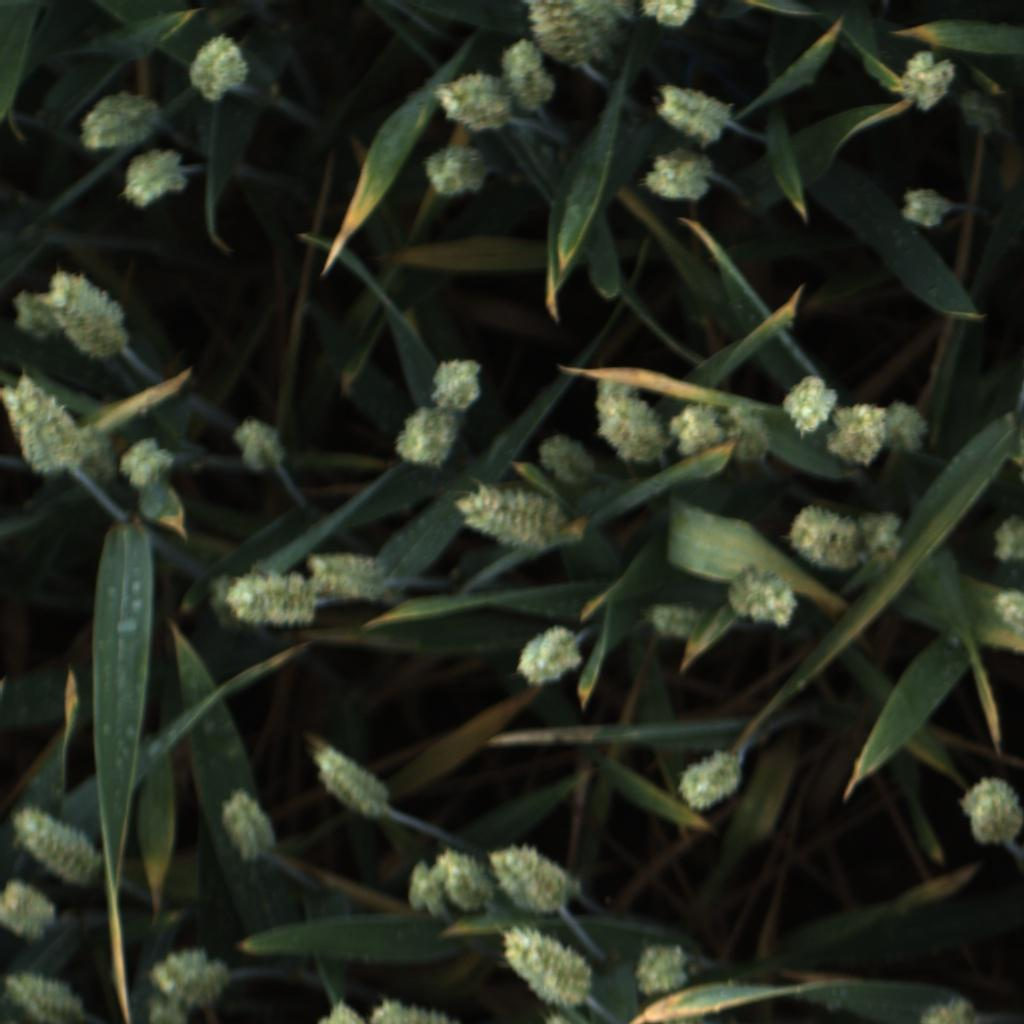0-0: (38, 263, 133, 363), (0, 369, 87, 476), (500, 920, 607, 1007), (306, 732, 398, 827), (12, 798, 108, 887), (585, 376, 670, 469), (445, 483, 560, 547), (209, 781, 283, 864), (224, 567, 321, 630), (650, 77, 741, 143), (432, 67, 515, 139), (724, 564, 809, 633), (305, 544, 396, 608), (525, 0, 609, 68), (951, 771, 1024, 849), (116, 146, 195, 218), (779, 498, 857, 570), (495, 33, 567, 111), (489, 844, 566, 916), (147, 943, 219, 1016), (76, 89, 155, 154), (421, 139, 501, 203), (182, 35, 256, 104), (7, 962, 87, 1024), (623, 936, 697, 1003), (821, 394, 889, 466), (433, 843, 498, 918), (391, 407, 468, 469), (516, 623, 585, 691), (641, 146, 719, 206), (665, 395, 730, 465), (674, 749, 743, 814), (890, 49, 957, 114), (533, 432, 602, 493), (849, 505, 909, 575), (226, 415, 293, 477), (426, 349, 488, 414), (780, 372, 838, 440), (640, 590, 706, 649), (2, 877, 64, 939), (892, 178, 959, 234), (719, 399, 774, 467), (118, 434, 176, 491), (873, 394, 926, 456), (984, 580, 1024, 660), (906, 988, 992, 1024), (74, 422, 117, 491), (361, 994, 462, 1023), (401, 857, 445, 923), (980, 507, 1024, 572), (10, 288, 60, 340), (533, 854, 585, 902), (570, 0, 637, 34), (206, 572, 244, 630), (959, 87, 1003, 136), (642, 0, 697, 33), (309, 997, 363, 1024), (540, 1010, 572, 1024)
